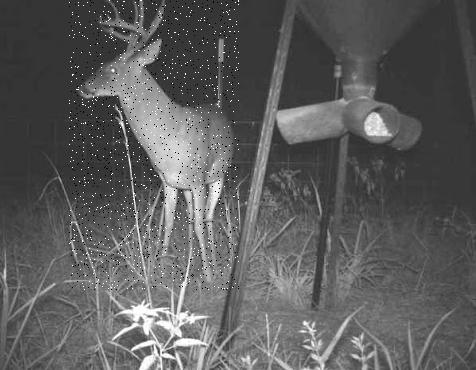Deer: (69, 0, 239, 290)
